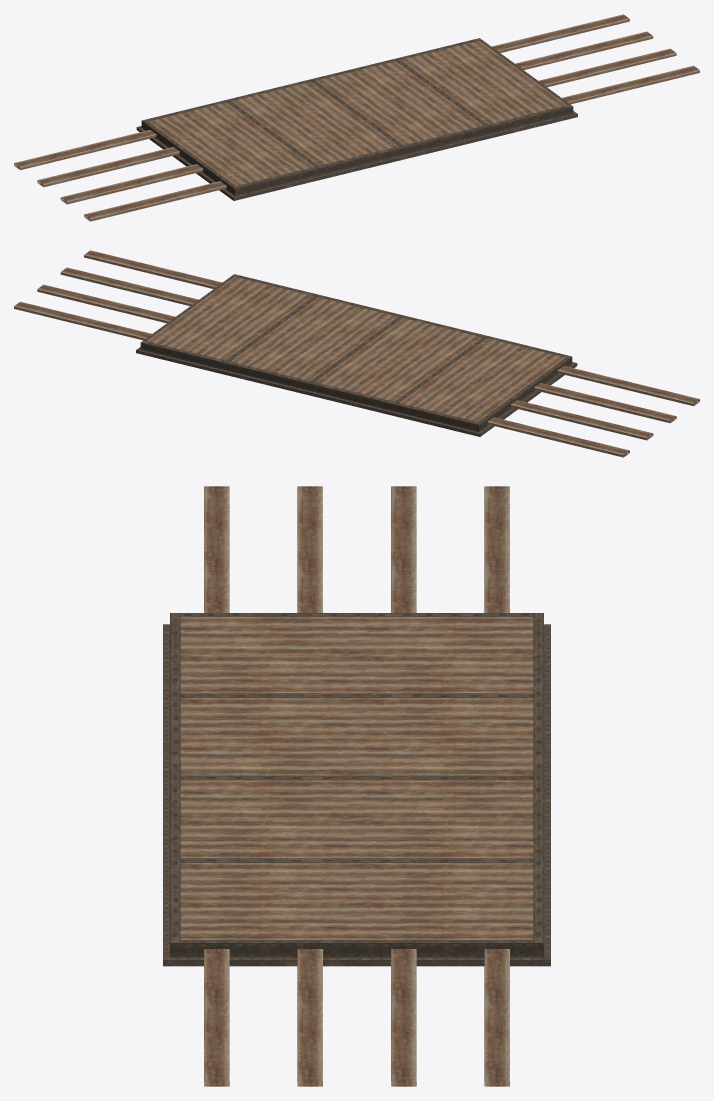
3 renders of one model, top to bottom at view 1: azimuth 30°, elevation 25°; view 2: azimuth 150°, elevation 25°; view 3: azimuth 270°, elevation 25°, orthographic. The views are drawn at different scales.
Visible parts, largest first — view 1: SM_Greathall_Roof_Flat_01_LOD0; view 2: SM_Greathall_Roof_Flat_01_LOD0; view 3: SM_Greathall_Roof_Flat_01_LOD0.
Boxes of the visible parts, bbox=[...] form: SM_Greathall_Roof_Flat_01_LOD0: bbox=[14, 14, 699, 221]; SM_Greathall_Roof_Flat_01_LOD0: bbox=[14, 250, 699, 457]; SM_Greathall_Roof_Flat_01_LOD0: bbox=[163, 486, 550, 1086].
Bounding box in the file's own units: 30.1 × 0.4765 × 8.3.
Materials: 2 (2 with a texture image).
